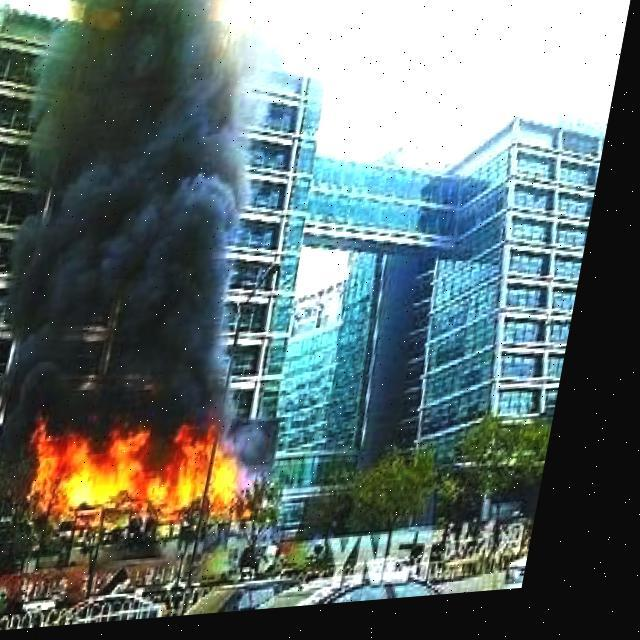Fire: (35, 392, 272, 540)
